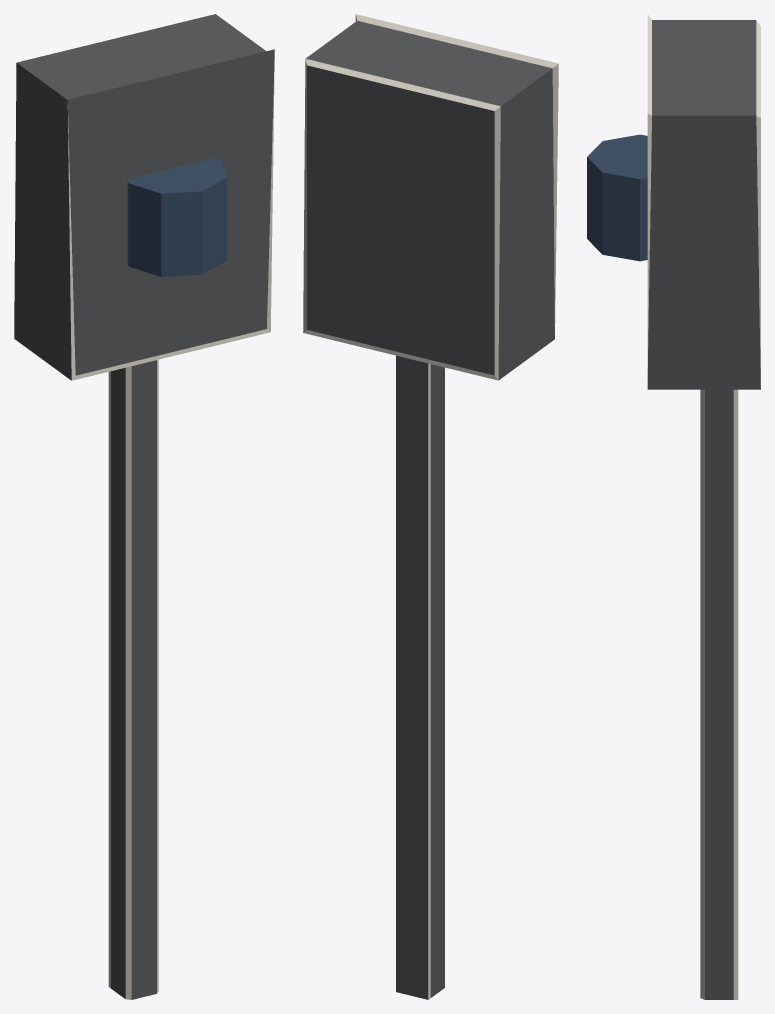
The model's file is kit_meter.obj.
The picture shows the model from 3 angles, left to right: view 1: azimuth 30°, elevation 25°; view 2: azimuth 150°, elevation 25°; view 3: azimuth 270°, elevation 25°; orthographic projection.
Parts seen in each view (by area): view 1: kit_meter; view 2: kit_meter; view 3: kit_meter.
Part boxes in pixels (box(x1,y1,x2,y2)): kit_meter: box(14, 14, 274, 999); kit_meter: box(303, 14, 558, 999); kit_meter: box(587, 14, 760, 999).
Size of the model in its own units: 0.312 by 1.36 by 0.23.
